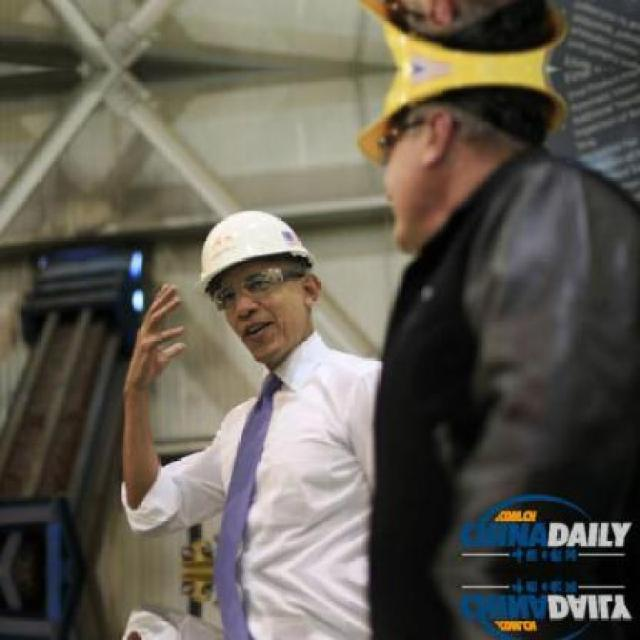helmet: (339, 68, 581, 264), (182, 196, 328, 358), (338, 0, 582, 69)
